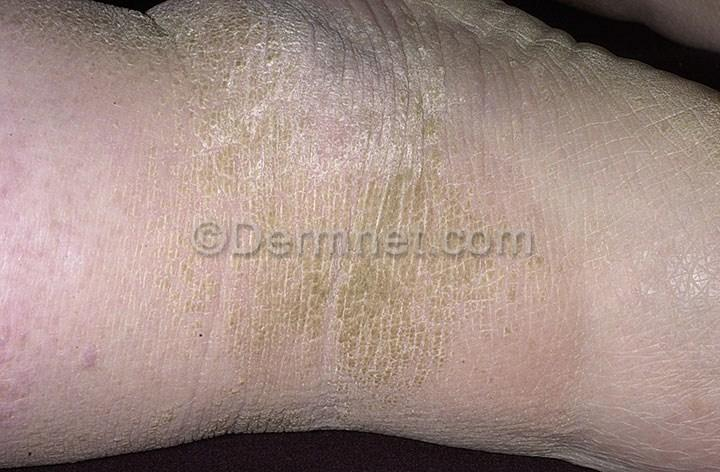Eczema: (180, 255, 560, 408), (188, 101, 528, 219), (174, 0, 407, 93), (2, 0, 168, 66), (416, 43, 456, 95)
